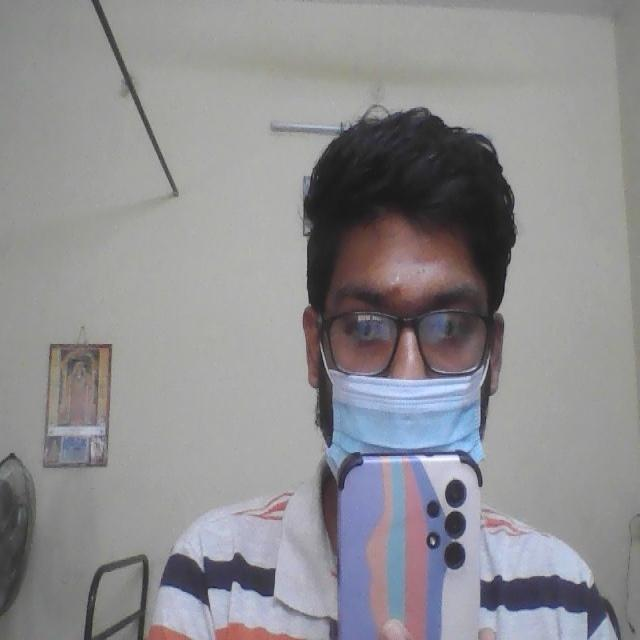Mobile: (331, 441, 486, 640)
